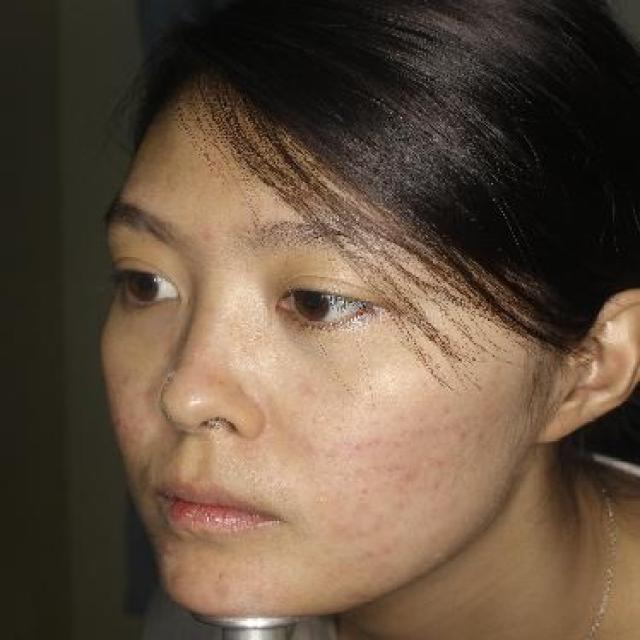blackheads: (334, 423, 344, 432)
dark spot: (400, 466, 424, 483), (348, 441, 367, 457), (380, 460, 400, 474), (350, 526, 370, 540), (416, 375, 433, 391), (457, 429, 470, 443), (303, 385, 318, 397), (364, 436, 376, 450), (442, 405, 455, 417), (370, 522, 385, 532), (373, 434, 385, 444)
